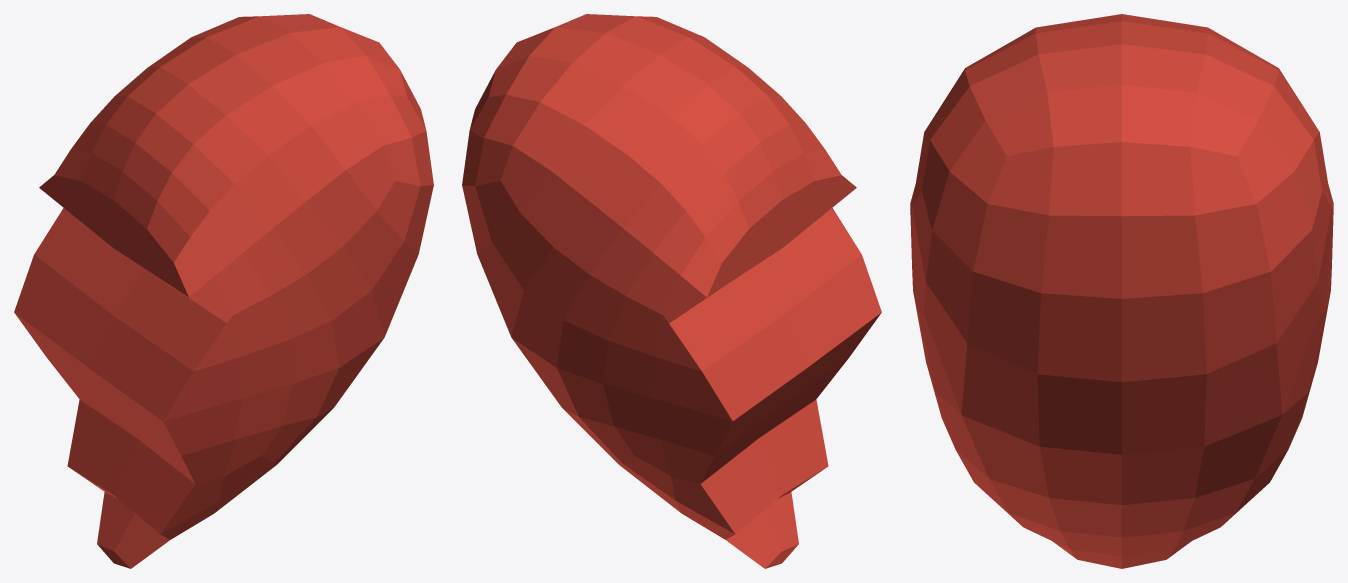
The model's file is Heart_Half.glb.
The picture shows the model from 3 angles, left to right: view 1: azimuth 30°, elevation 25°; view 2: azimuth 150°, elevation 25°; view 3: azimuth 270°, elevation 25°; orthographic projection. The views are drawn at different scales.
Parts seen in each view (by area): view 1: Heart_Half; view 2: Heart_Half; view 3: Heart_Half.
Boxes of the visible parts, x1,y1,x2,y2 form: Heart_Half: [14, 14, 433, 568]; Heart_Half: [462, 14, 881, 568]; Heart_Half: [910, 14, 1333, 568].
Size of the model in its own units: 0.1129 by 0.1687 by 0.1016.
